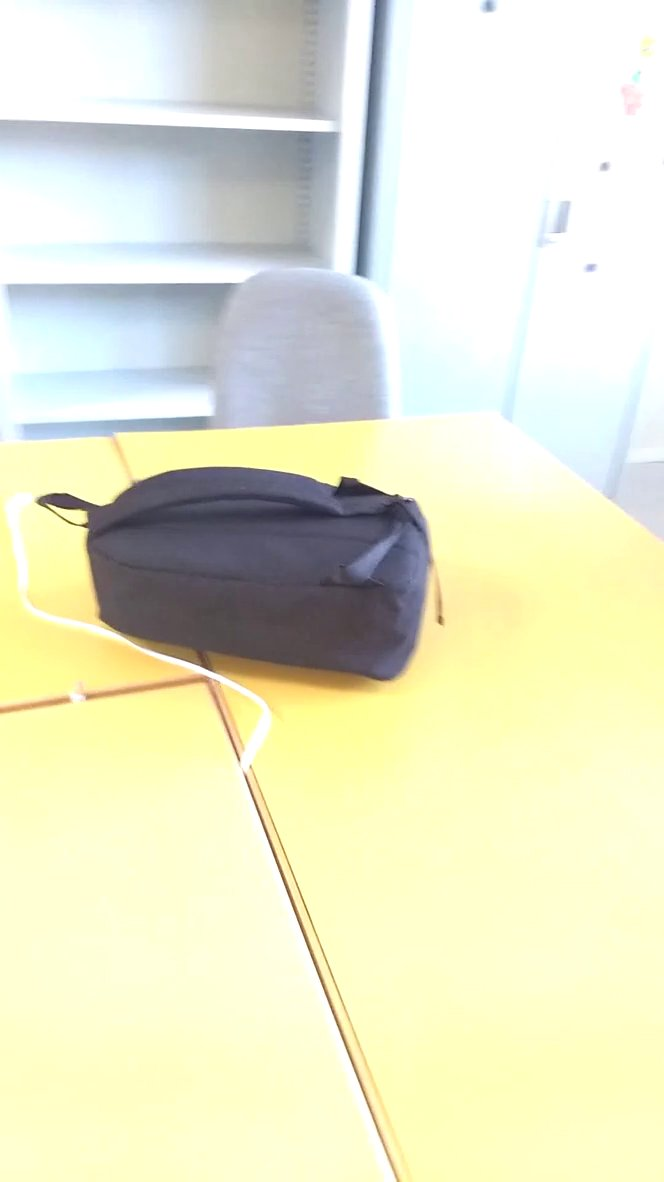bag: (39, 456, 458, 697)
chair: (199, 252, 416, 433)
